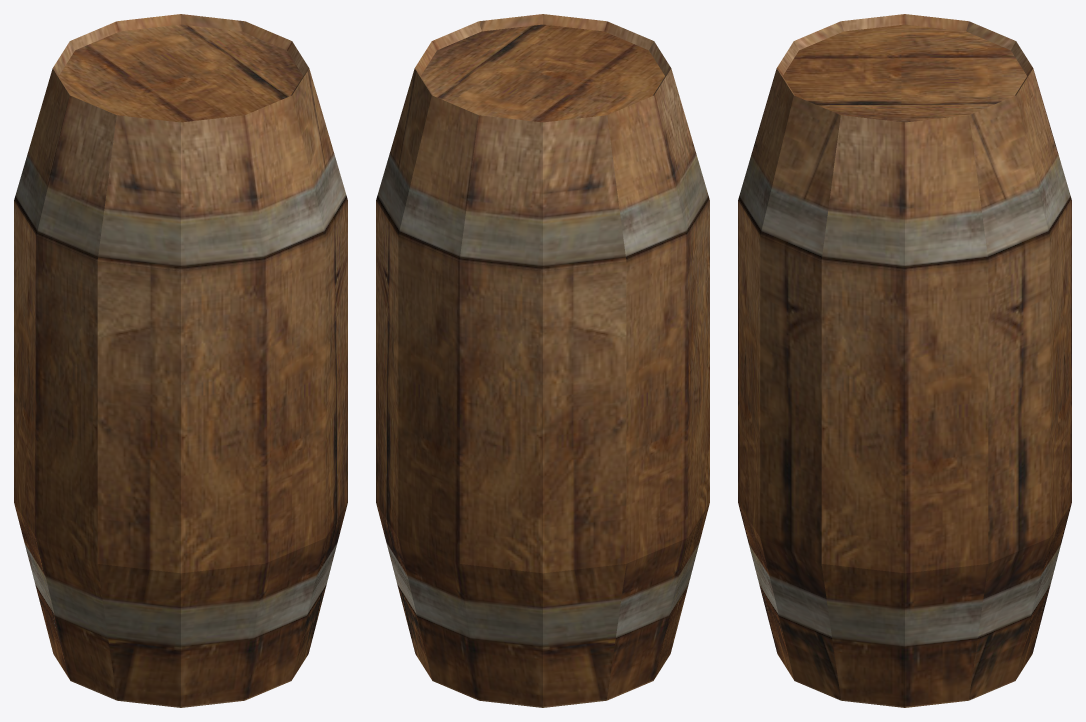
Rendered from Barrilchaves.glb.
3 renders of one model, left to right at view 1: azimuth 30°, elevation 25°; view 2: azimuth 150°, elevation 25°; view 3: azimuth 270°, elevation 25°, orthographic.
Parts seen in each view (by area): view 1: Cylinder; view 2: Cylinder; view 3: Cylinder.
Part boxes in pixels (x1,y1,x2,y2): Cylinder: (14,14,347,707); Cylinder: (376,14,709,707); Cylinder: (738,14,1071,707).
Bounding box in the file's own units: 2 × 3.87 × 2.
Materials: 1 (1 with a texture image).
